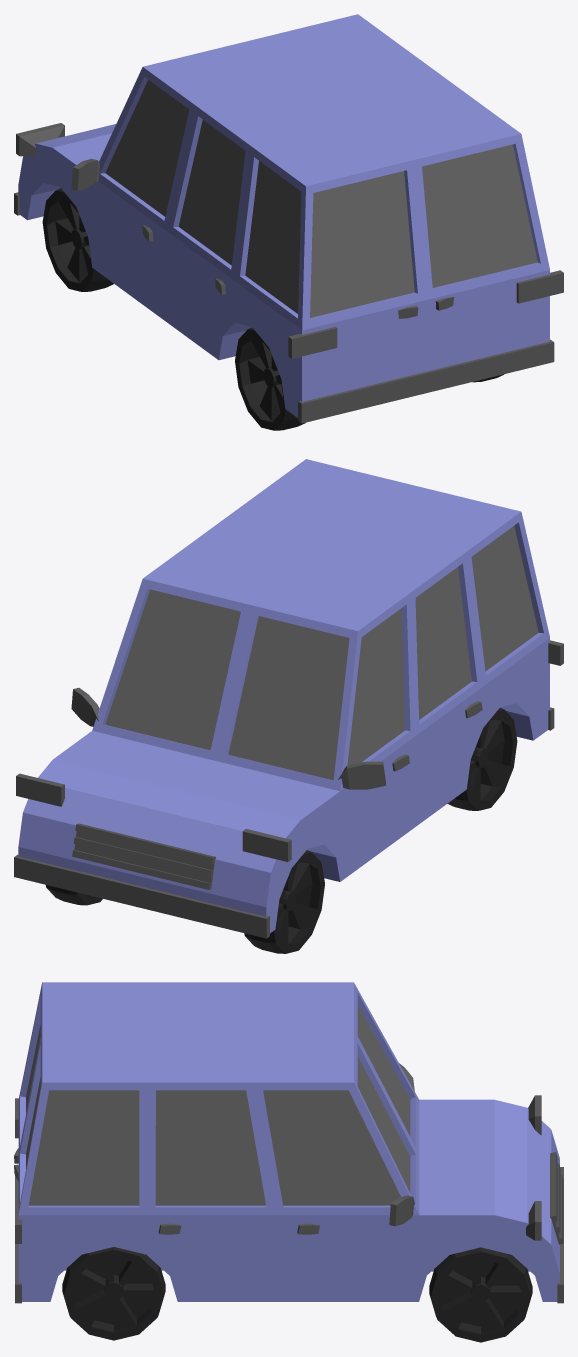
Rendered from Car09.fbx.
3 views of the same model, one above another, from view 1: azimuth 30°, elevation 25°; view 2: azimuth 150°, elevation 25°; view 3: azimuth 270°, elevation 25° (orthographic). The views are drawn at different scales.
Visible parts, largest first — view 1: Car09; view 2: Car09; view 3: Car09.
Part boxes in pixels (x1,y1,x2,y2): Car09: (14, 14, 563, 430); Car09: (14, 459, 563, 953); Car09: (14, 982, 563, 1342).
Size of the model in its own units: 8.57 by 7.05 by 13.61.
